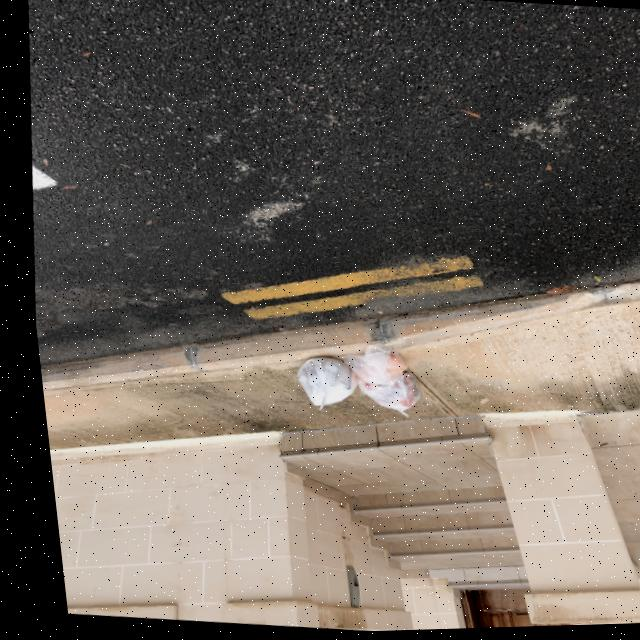Organic Waste -White Bag-: (335, 346, 418, 422), (285, 354, 350, 415)
